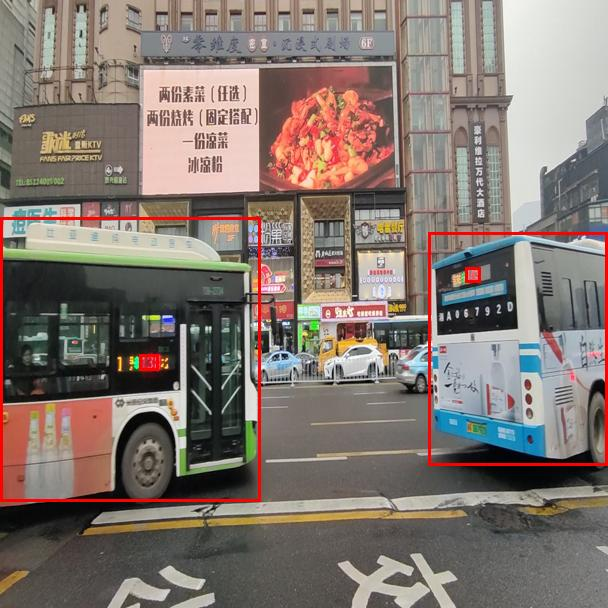bus: (0, 217, 260, 501), (428, 232, 607, 465)
screen: (139, 354, 158, 370), (465, 267, 480, 282)
